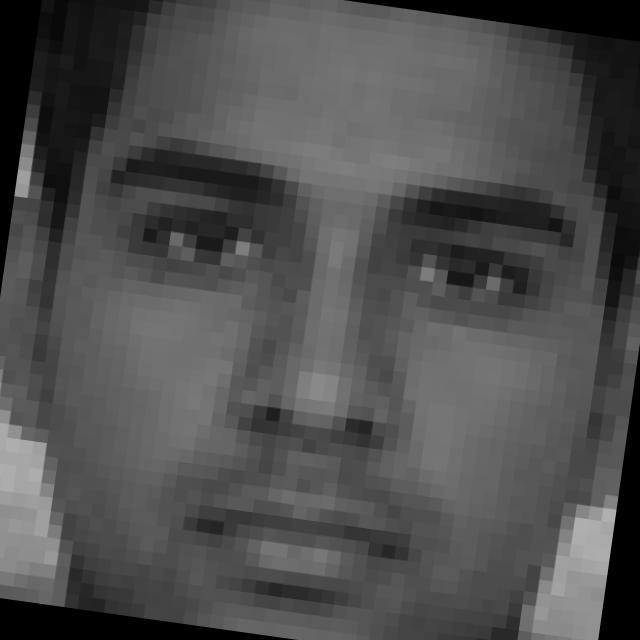neutral: (53, 120, 596, 640)
